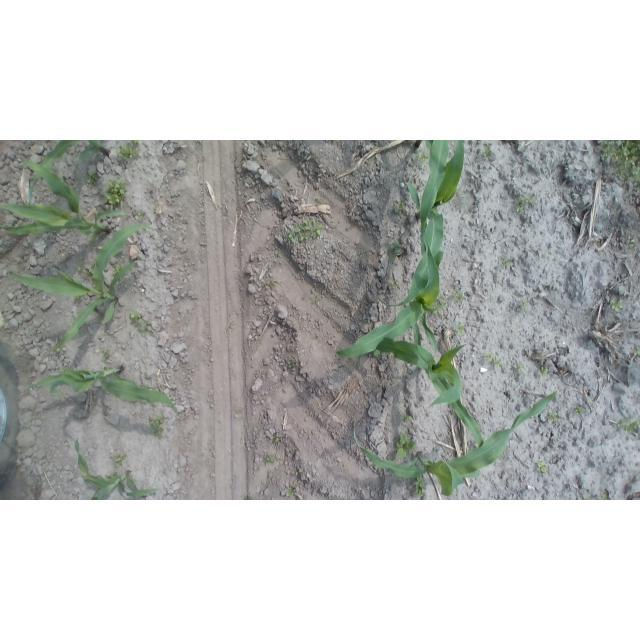Maize: (353, 391, 560, 498), (10, 224, 159, 355), (358, 332, 484, 454), (377, 142, 465, 307), (334, 252, 444, 359), (0, 158, 126, 243), (23, 365, 179, 417), (412, 141, 465, 268), (26, 141, 111, 206), (74, 438, 159, 500)
Weeds: (595, 141, 640, 192), (285, 220, 326, 245), (103, 177, 130, 208), (129, 309, 156, 337), (395, 433, 418, 462), (117, 141, 143, 165), (148, 414, 168, 440), (516, 190, 537, 214), (432, 285, 448, 316), (481, 351, 504, 370), (388, 239, 406, 261), (615, 418, 639, 434), (413, 475, 428, 499), (73, 261, 91, 279), (113, 451, 128, 468), (571, 403, 587, 418), (535, 460, 550, 476), (398, 411, 415, 425), (388, 276, 400, 295), (454, 320, 467, 337), (393, 198, 406, 215), (281, 486, 299, 498), (501, 255, 516, 269), (99, 347, 112, 363), (88, 172, 100, 189), (547, 410, 561, 424), (287, 357, 301, 371), (538, 365, 551, 380), (519, 297, 532, 312), (262, 278, 278, 290), (451, 290, 465, 303), (513, 363, 527, 376), (609, 299, 623, 312), (417, 151, 430, 165), (264, 453, 279, 465), (269, 434, 282, 447), (233, 405, 245, 419), (483, 145, 494, 160), (112, 263, 123, 278), (249, 331, 262, 342), (313, 195, 327, 205), (137, 210, 148, 222), (595, 492, 611, 500), (311, 294, 321, 306), (580, 493, 596, 500), (629, 237, 638, 248), (275, 250, 283, 261), (359, 251, 368, 260), (89, 233, 97, 241)
